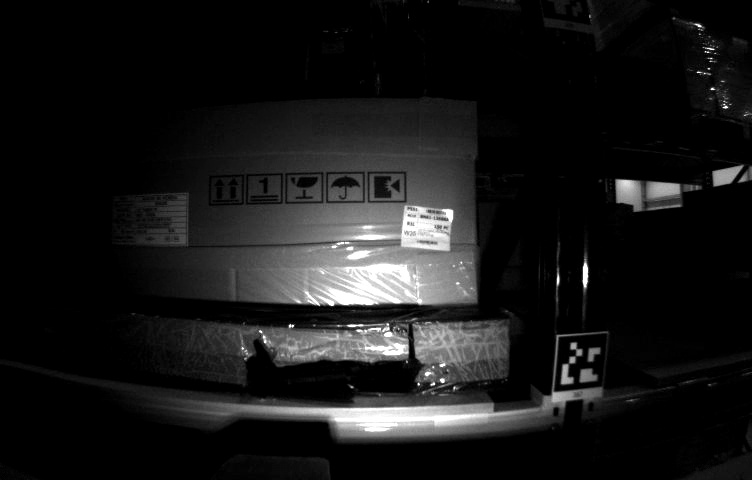True Barcode: (404, 201, 453, 252)
